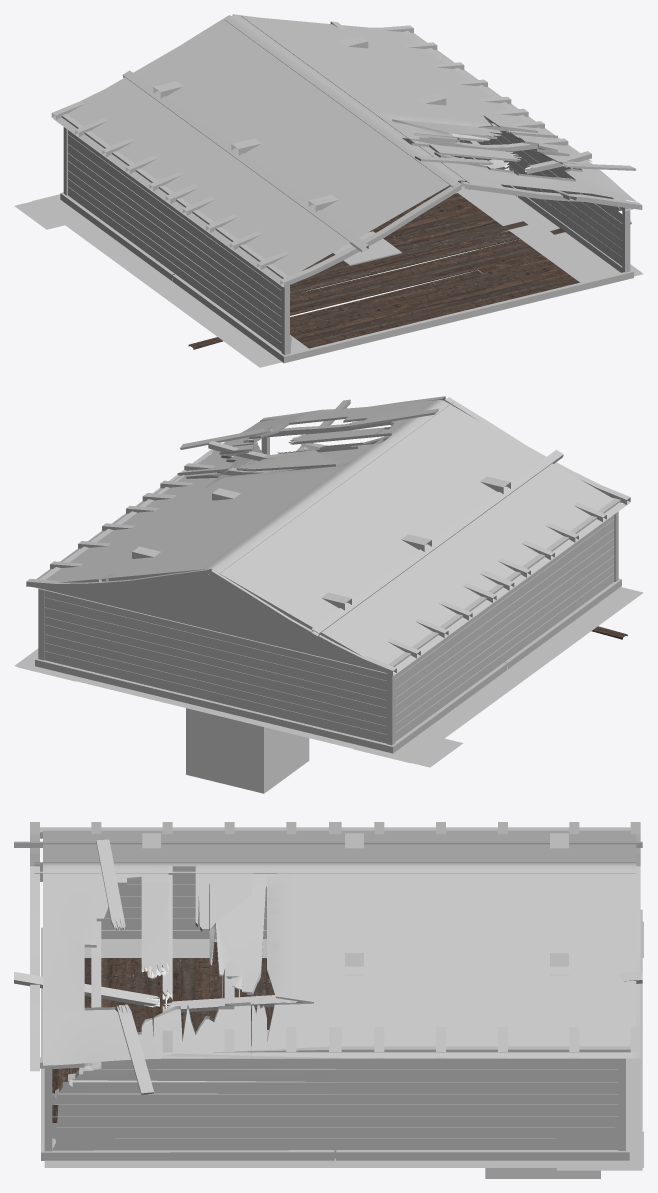
The model's file is SM_Garret_01_Gore.fbx.
3 views of the same model, one above another, from view 1: azimuth 30°, elevation 25°; view 2: azimuth 150°, elevation 25°; view 3: azimuth 270°, elevation 25° (orthographic). The views are drawn at different scales.
Parts seen in each view (by area): view 1: Cube.008, wall.013, wall.002, Cube, dust, wall.007, Cube.009, Cube.007, Cube.002, wall.010, Cube.003; view 2: Cube.008, wall.002, Cube, wall.007, dust, Cube.001, Cube.002, Cube.007, wall.010; view 3: Cube.008, wall.002, Cube, wall.007, dust, wall.013, Cube.002, Cube.007, wall.010, Cube.006, Cube.001, Cube.005.
Boxes of the visible parts, x1,y1,x2,y2 form: Cube.008: (54,15,636,283); wall.013: (188,155,579,349); wall.002: (53,36,631,353); Cube: (51,14,642,287); dust: (14,140,643,367); wall.007: (60,32,633,363); Cube.009: (332,231,401,265); Cube.007: (429,144,522,161); Cube.002: (415,156,636,170); wall.010: (403,31,563,146); Cube.003: (524,151,591,174); Cube.008: (36,400,625,674); wall.002: (32,442,629,743); Cube: (26,396,630,675); wall.007: (35,437,621,753); dust: (14,587,643,767); Cube.001: (186,708,309,793); Cube.002: (180,408,438,449); Cube.007: (288,427,384,444); wall.010: (39,470,190,579); Cube.008: (43,830,636,1065); wall.002: (52,882,637,1158); Cube: (14,822,642,1071); wall.007: (40,827,630,1160); dust: (44,909,643,1170); wall.013: (52,942,274,1122); Cube.002: (96,839,154,1094); Cube.007: (141,882,168,977); wall.010: (214,1046,630,1053); Cube.006: (163,971,642,1012); Cube.001: (485,1168,600,1178); Cube.005: (162,866,172,999).
Size of the model in its own units: 1151 by 578 by 1088.
